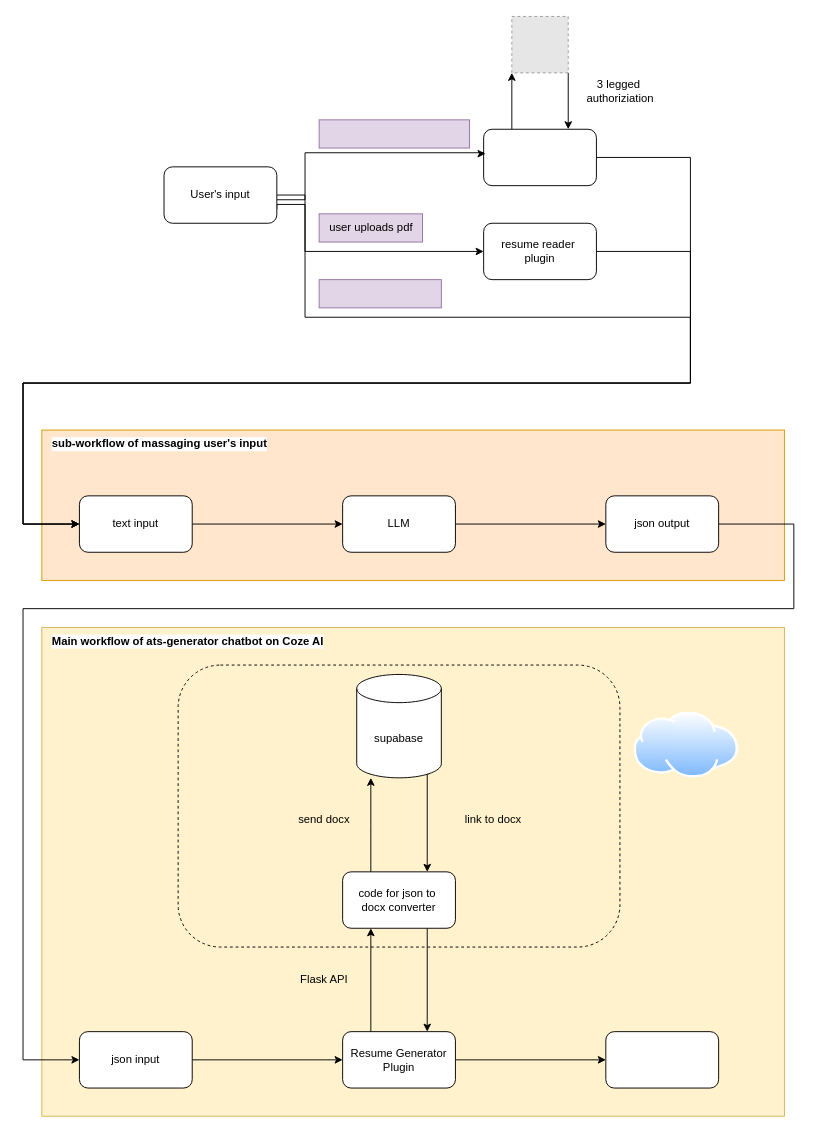
This 818x1133 diagram has some shape labels left out. Grey dashed boxes stand in for pictures. The centre of each missing label's shape, as x and y in pixels:
cloud storage: [686,744]
link output: [662,1059]
Linkedin plugin: [539,157]
user connects to linkedin: [394,133]
user input manually: [379,293]
